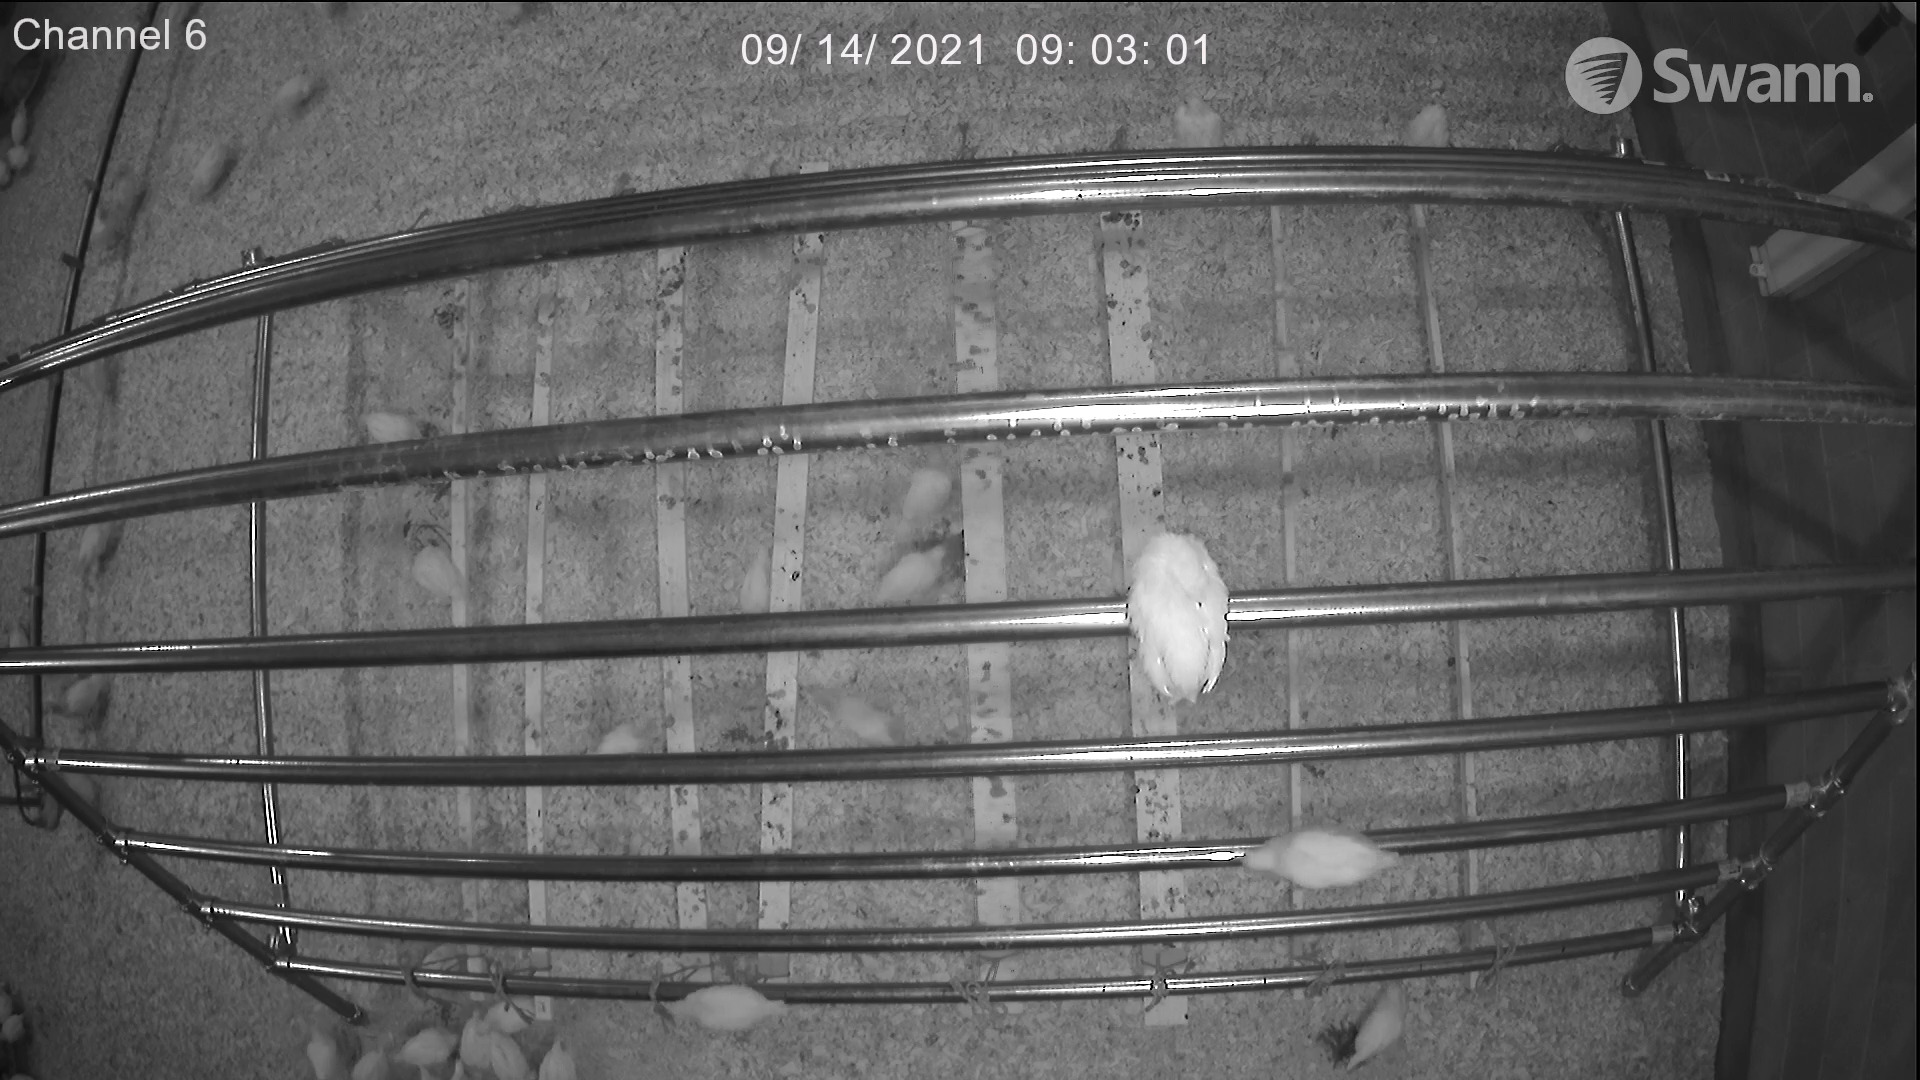Perching: (1017, 487, 1341, 774), (1216, 816, 1433, 932), (659, 967, 868, 1047)
